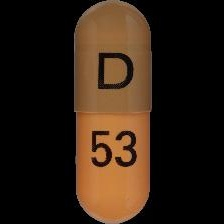61919-298: (0, 0, 224, 224)
